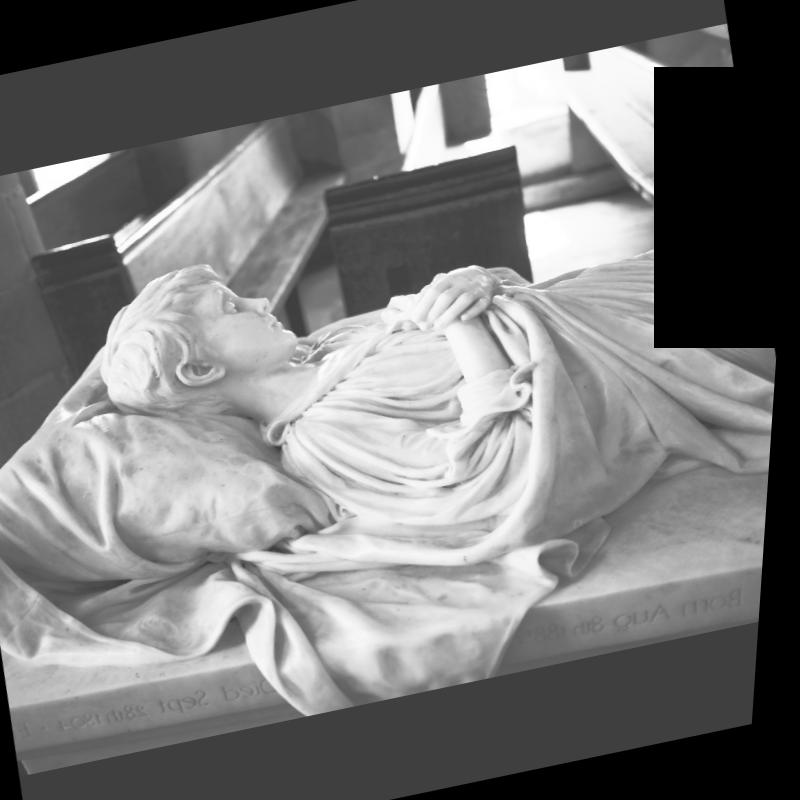pillow: (0, 297, 356, 616)
